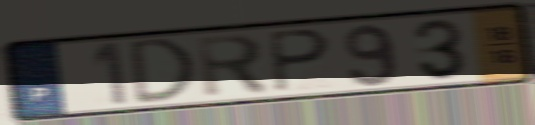1: (88, 40, 130, 110)
3: (412, 16, 467, 82)
9: (342, 22, 401, 88)
D: (128, 35, 199, 108)
P: (265, 27, 334, 95)
R: (194, 31, 273, 101)
